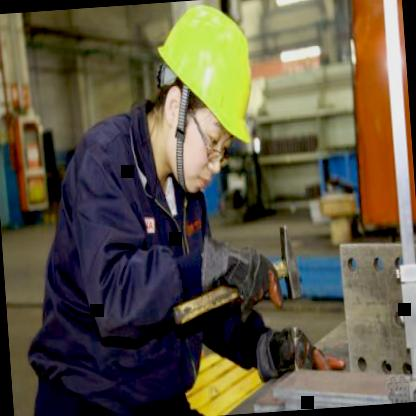helmet: (133, 0, 275, 207)
